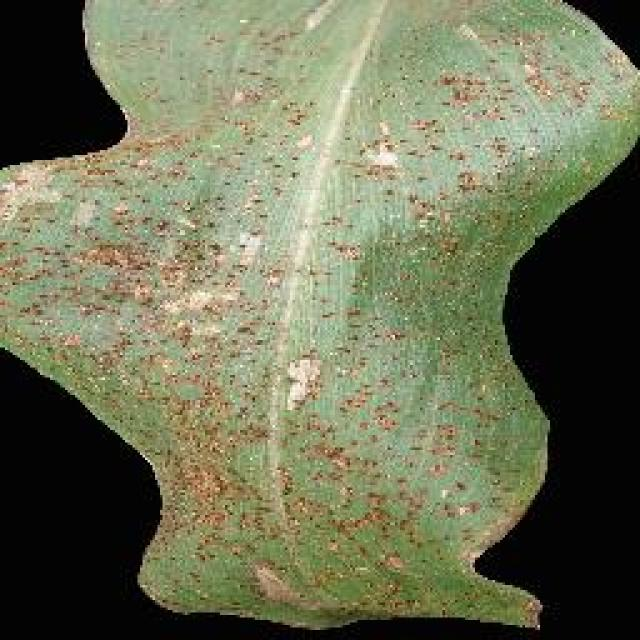Corn Common Rust: (88, 45, 527, 640)
